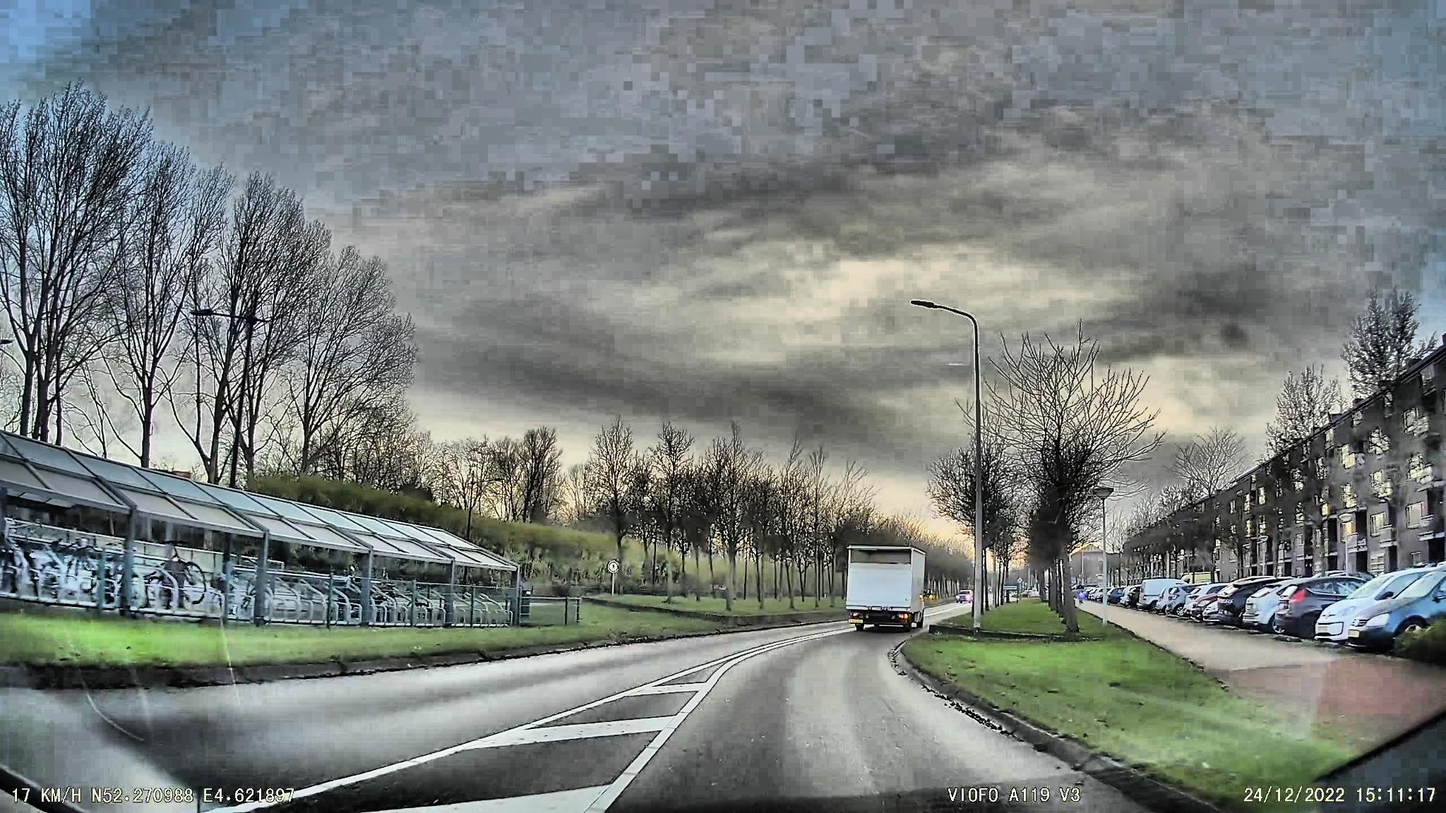Roads: (0, 627, 1217, 813)
